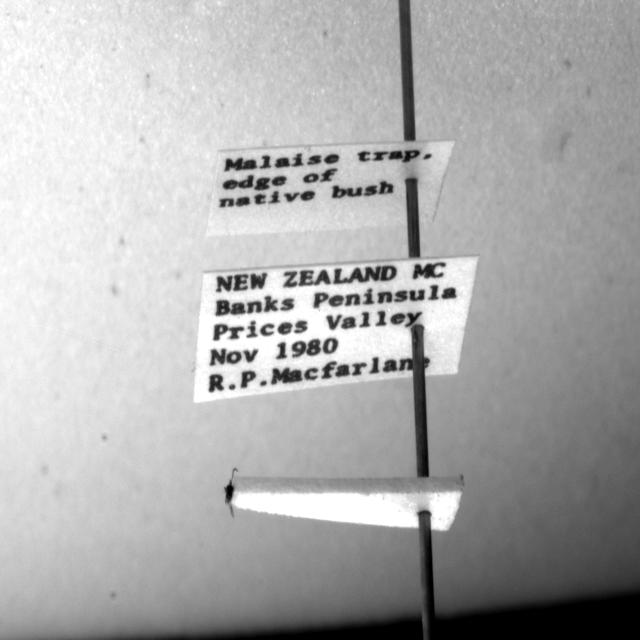typed_label: (194, 257, 478, 403), (206, 141, 454, 236)
